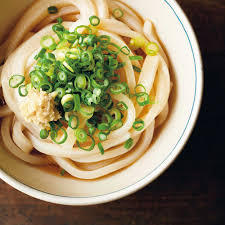bukkake: (1, 1, 201, 201)
